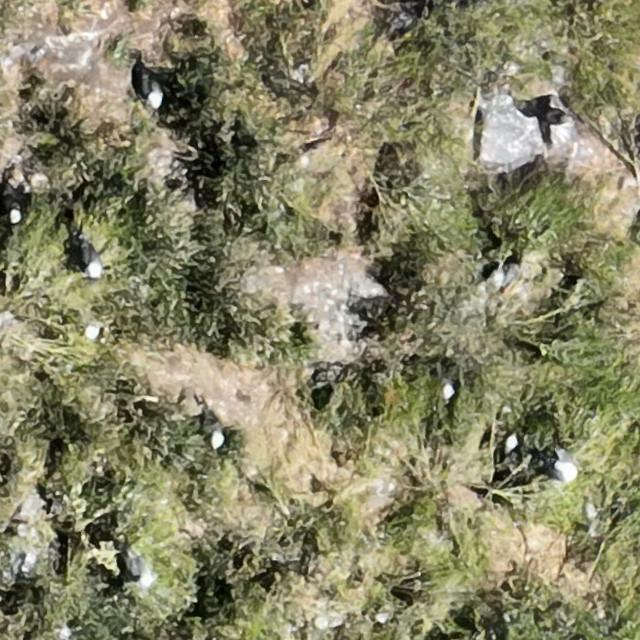umineko: (296, 148, 334, 175), (142, 74, 162, 108), (554, 455, 576, 483), (84, 244, 103, 276), (5, 196, 24, 222), (438, 381, 455, 403), (209, 427, 224, 450), (505, 434, 517, 456), (55, 627, 72, 639)
